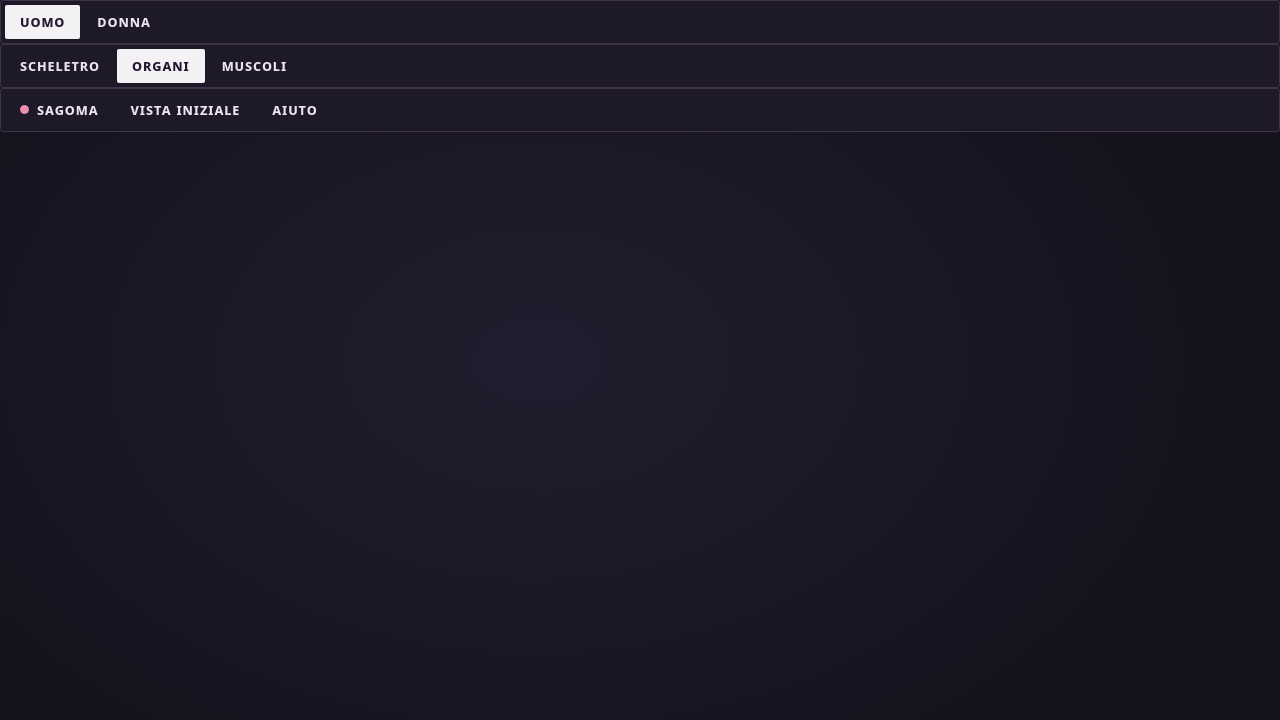
Test: barra dei comandi › sceglie il corpo fuori dalla barra; in quello femminile la sagoma non è disponibile
Click the radio button labelled "Donna" at {"x": 124, "y": 22}, box [82,5,166,39]
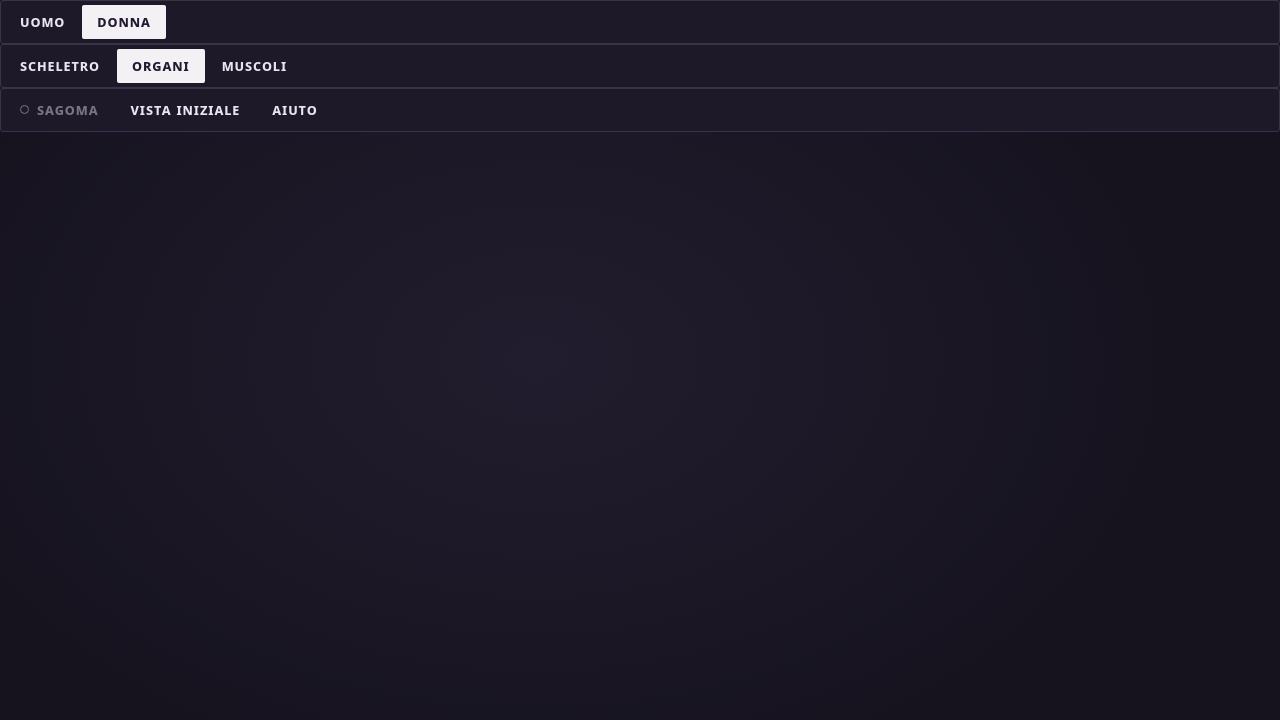
Now the button "Sagoma" is disabled, box [5,93,114,127]
